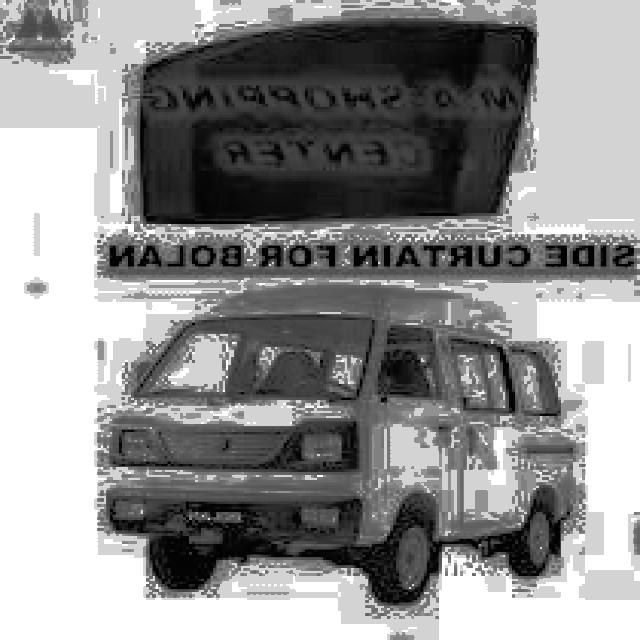LCV: (107, 288, 579, 605)
